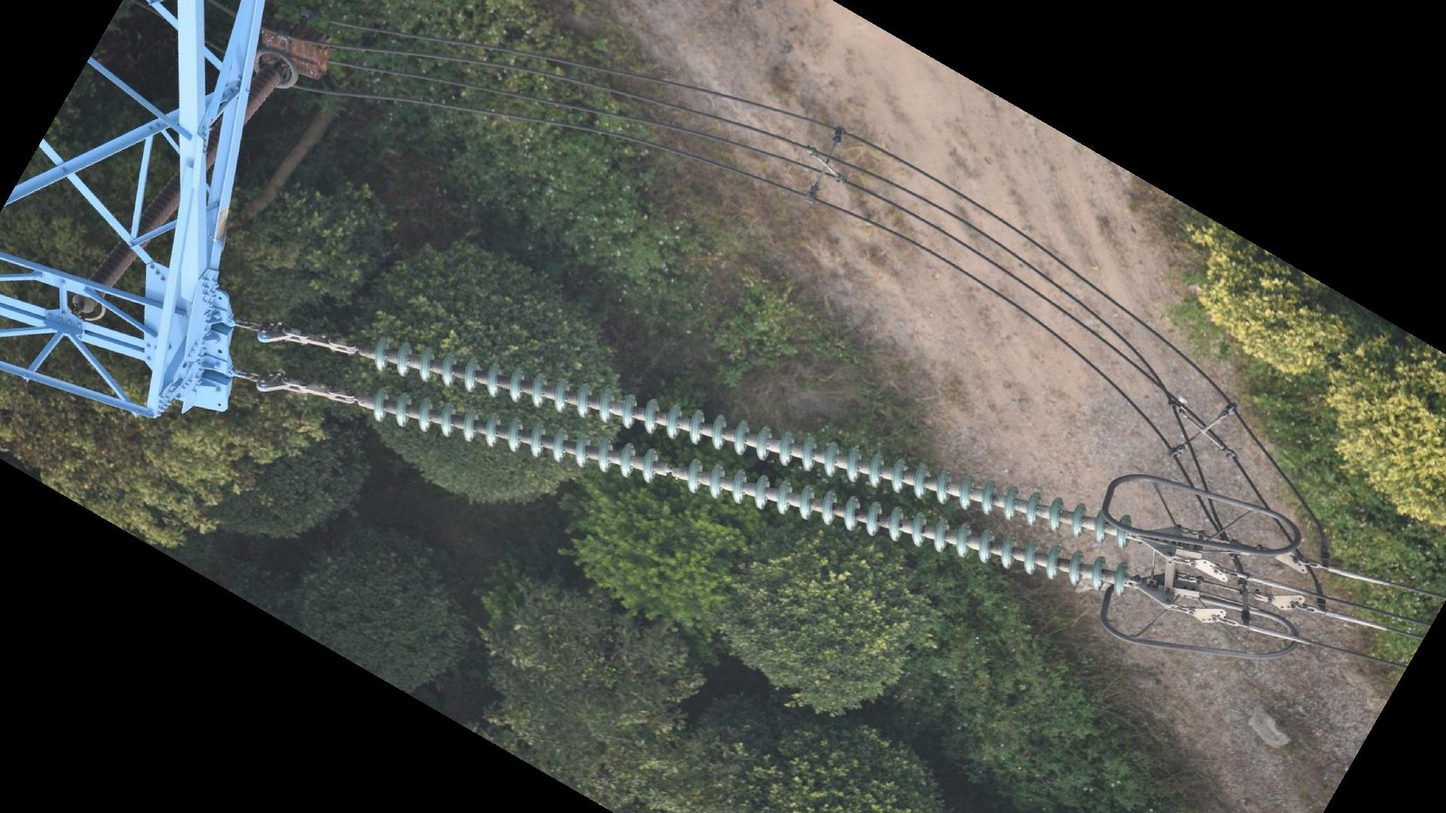insulator: (365, 330, 1140, 599), (70, 180, 180, 312), (242, 62, 286, 135)
insulator_stringdrop: (639, 446, 706, 498)
